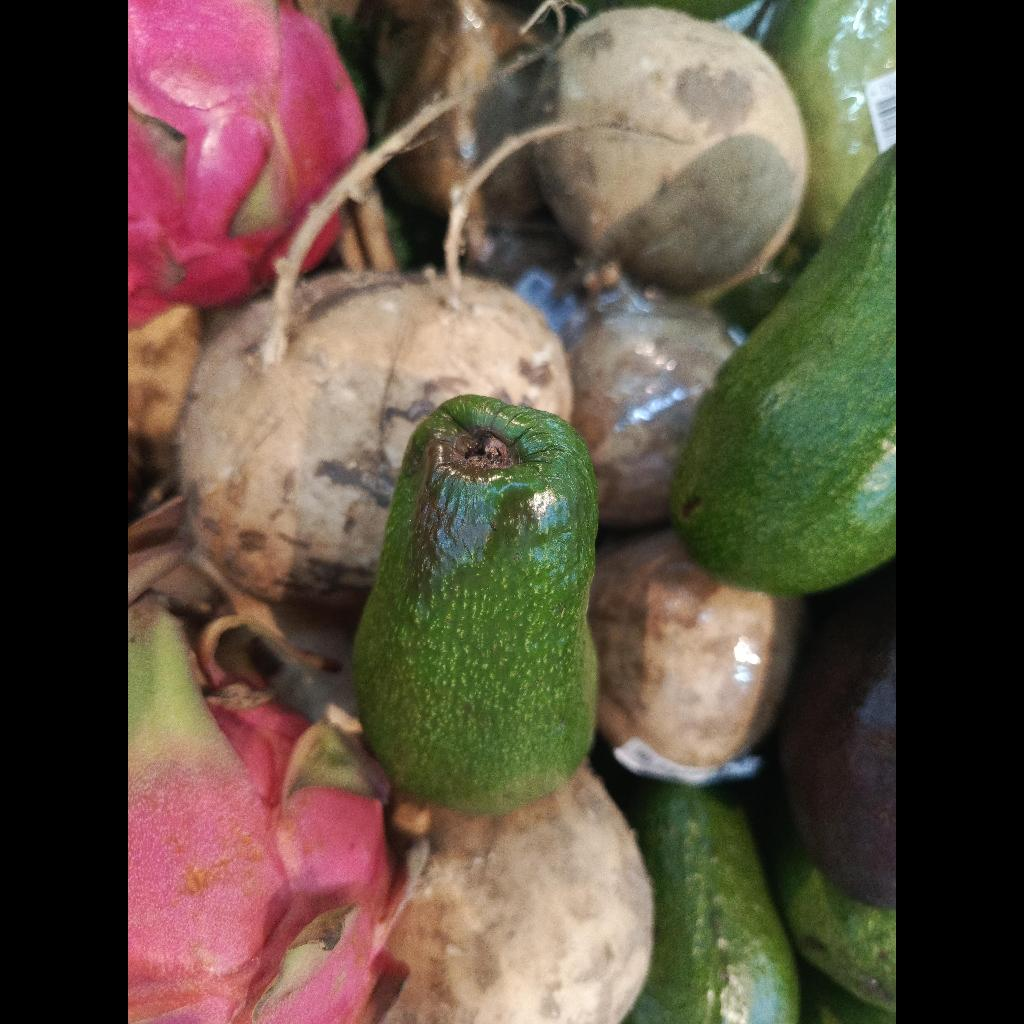pudricion_peduncular: (353, 395, 597, 813)
